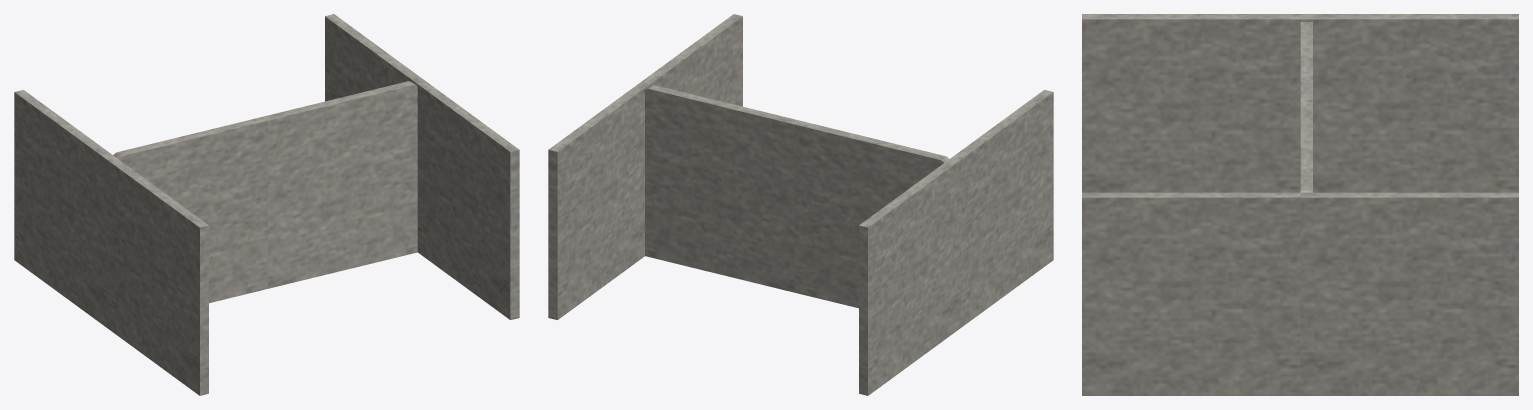
File: divider_full_h.fbx
3 views of the same model, side by side, from view 1: azimuth 30°, elevation 25°; view 2: azimuth 150°, elevation 25°; view 3: azimuth 270°, elevation 25° (orthographic). The views are drawn at different scales.
Parts seen in each view (by area): view 1: divider_full_h; view 2: divider_full_h; view 3: divider_full_h.
Part boxes in pixels (x1,y1,x2,y2): divider_full_h: (14, 14, 519, 395); divider_full_h: (548, 14, 1053, 395); divider_full_h: (1082, 14, 1518, 395).
Bounding box in the file's own units: 299 × 150 × 300.
1 material, 1 textured.
